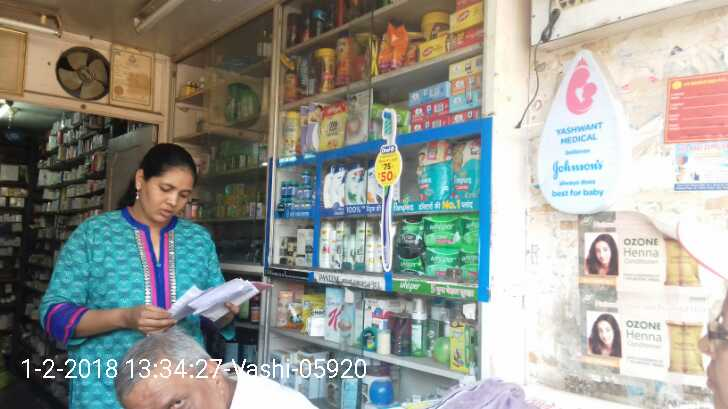beauty: (349, 214, 381, 270), (319, 154, 345, 209), (318, 218, 336, 272), (343, 164, 365, 202)
pharmacy: (447, 133, 481, 201), (416, 137, 449, 198), (422, 208, 461, 249), (275, 166, 314, 205), (426, 250, 462, 288), (388, 217, 423, 244), (394, 246, 423, 276)
